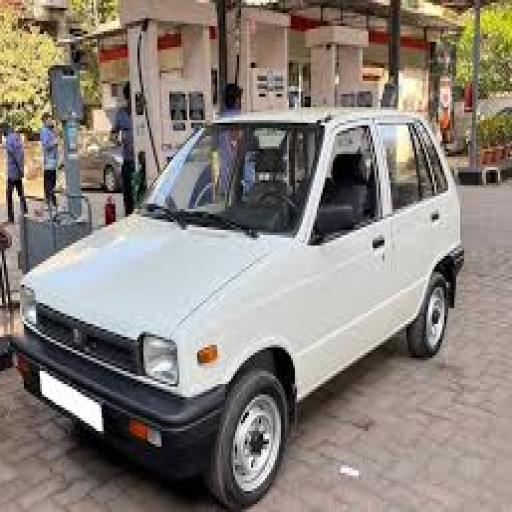License: (38, 359, 108, 444)
